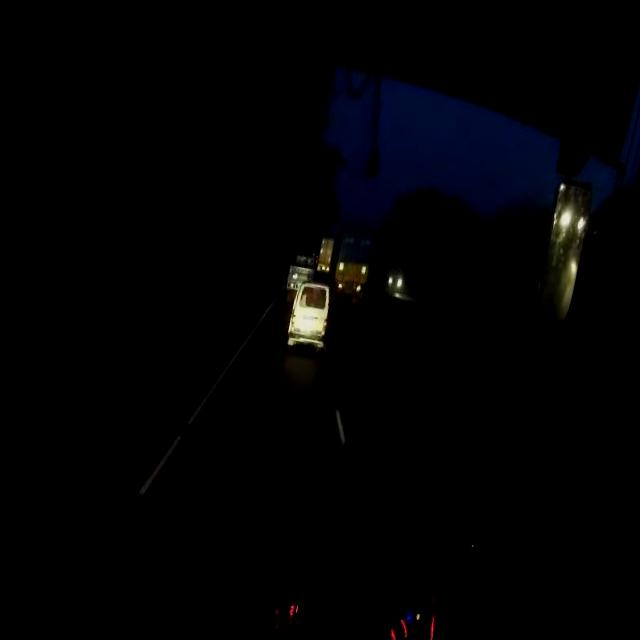truck: (326, 223, 379, 314), (284, 278, 332, 352), (282, 251, 304, 301)
